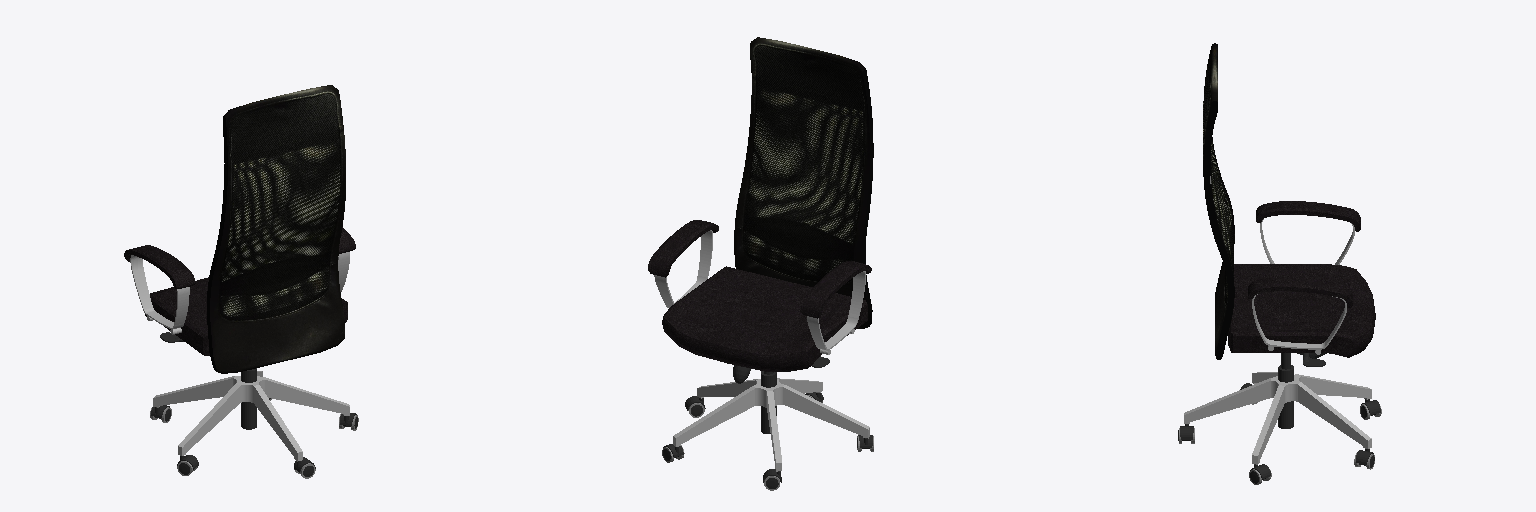
3 renders of one model, left to right at view 1: azimuth 30°, elevation 25°; view 2: azimuth 150°, elevation 25°; view 3: azimuth 270°, elevation 25°, orthographic.
Parts seen in each view (by area): view 1: Mesh1 Group1 Model, Mesh3 Group3 Model, Mesh6 Group6 Model, Mesh12 Group10 Armrest2 Model, Mesh13 Group11 Armrest2 Model, Mesh2 Group2 Model; view 2: Mesh1 Group1 Model, Mesh6 Group6 Model, Mesh3 Group3 Model, Mesh9 Group9 Armrest1 Model, Mesh13 Group11 Armrest2 Model, Mesh12 Group10 Armrest2 Model, Mesh8 Group8 Armrest1 Model; view 3: Mesh6 Group6 Model, Mesh3 Group3 Model, Mesh1 Group1 Model, Mesh13 Group11 Armrest2 Model, Mesh9 Group9 Armrest1 Model, Mesh2 Group2 Model, Mesh8 Group8 Armrest1 Model.
Part boxes in pixels (x1,y1,x2,y2): Mesh1 Group1 Model: (207,85,345,373); Mesh3 Group3 Model: (153,371,349,461); Mesh6 Group6 Model: (145,277,347,355); Mesh12 Group10 Armrest2 Model: (130,255,189,329); Mesh13 Group11 Armrest2 Model: (124,245,195,288); Mesh2 Group2 Model: (241,368,256,429); Mesh1 Group1 Model: (734,37,873,328); Mesh6 Group6 Model: (662,266,867,371); Mesh3 Group3 Model: (673,378,869,471); Mesh9 Group9 Armrest1 Model: (648,220,718,277); Mesh13 Group11 Armrest2 Model: (800,261,871,318); Mesh12 Group10 Armrest2 Model: (807,271,865,350); Mesh8 Group8 Armrest1 Model: (654,230,712,307); Mesh6 Group6 Model: (1228,264,1375,357); Mesh3 Group3 Model: (1184,372,1371,464); Mesh1 Group1 Model: (1203,43,1234,359); Mesh13 Group11 Armrest2 Model: (1256,201,1360,231); Mesh9 Group9 Armrest1 Model: (1248,277,1352,307); Mesh2 Group2 Model: (1278,353,1293,428); Mesh8 Group8 Armrest1 Model: (1252,294,1346,349).
Size of the model in its own units: 665 by 1277 by 632.
7 materials, 2 textured.